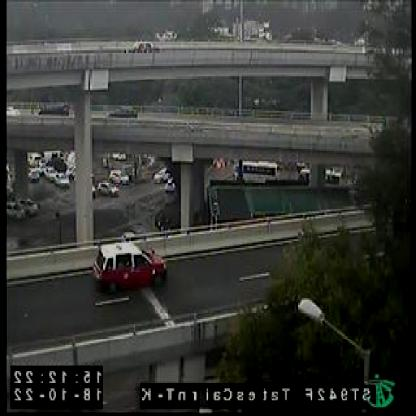Car: (94, 242, 168, 298)
